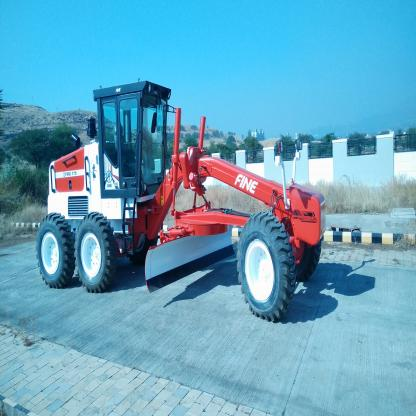bull_dozer/loader/grader: (29, 64, 328, 324)
